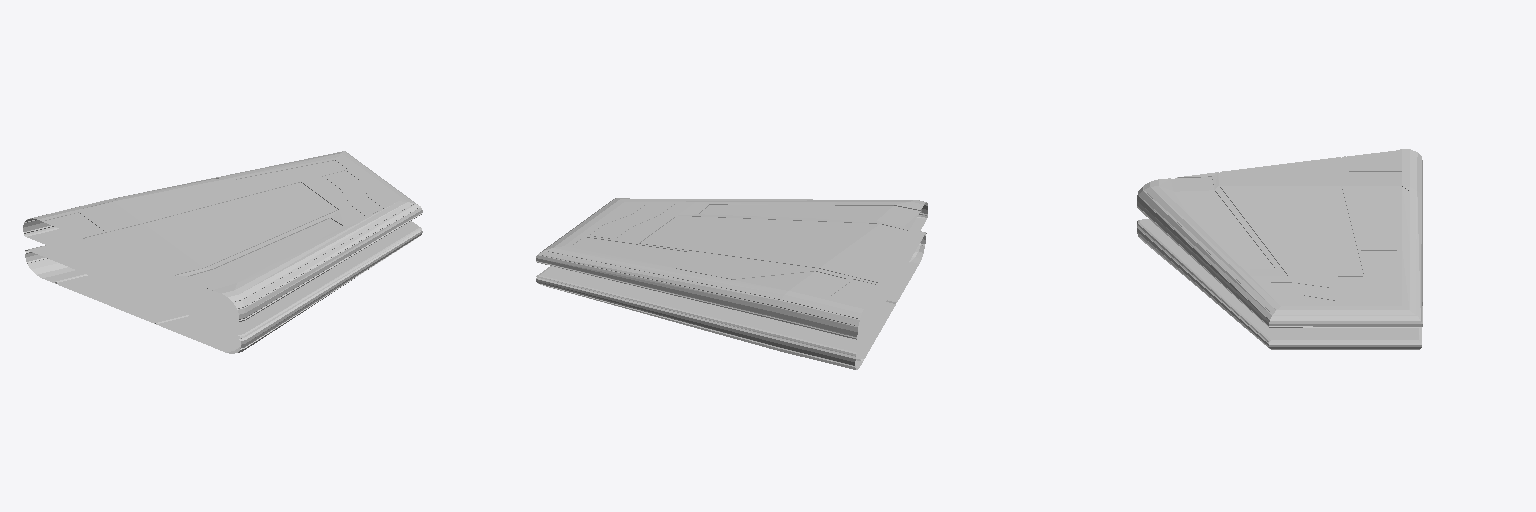
The model's file is spaceshipHalf2.obj.
3 views of the same model, side by side, from view 1: azimuth 30°, elevation 25°; view 2: azimuth 150°, elevation 25°; view 3: azimuth 270°, elevation 25° (orthographic).
Parts seen in each view (by area): view 1: spaceship.001; view 2: spaceship.001; view 3: spaceship.001.
Boxes of the visible parts, box(x1,y1,x2,y2) form: spaceship.001: box(23, 151, 422, 353); spaceship.001: box(536, 198, 927, 369); spaceship.001: box(1137, 149, 1422, 349).
Bounding box in the file's own units: 3.18 × 0.5666 × 2.45.